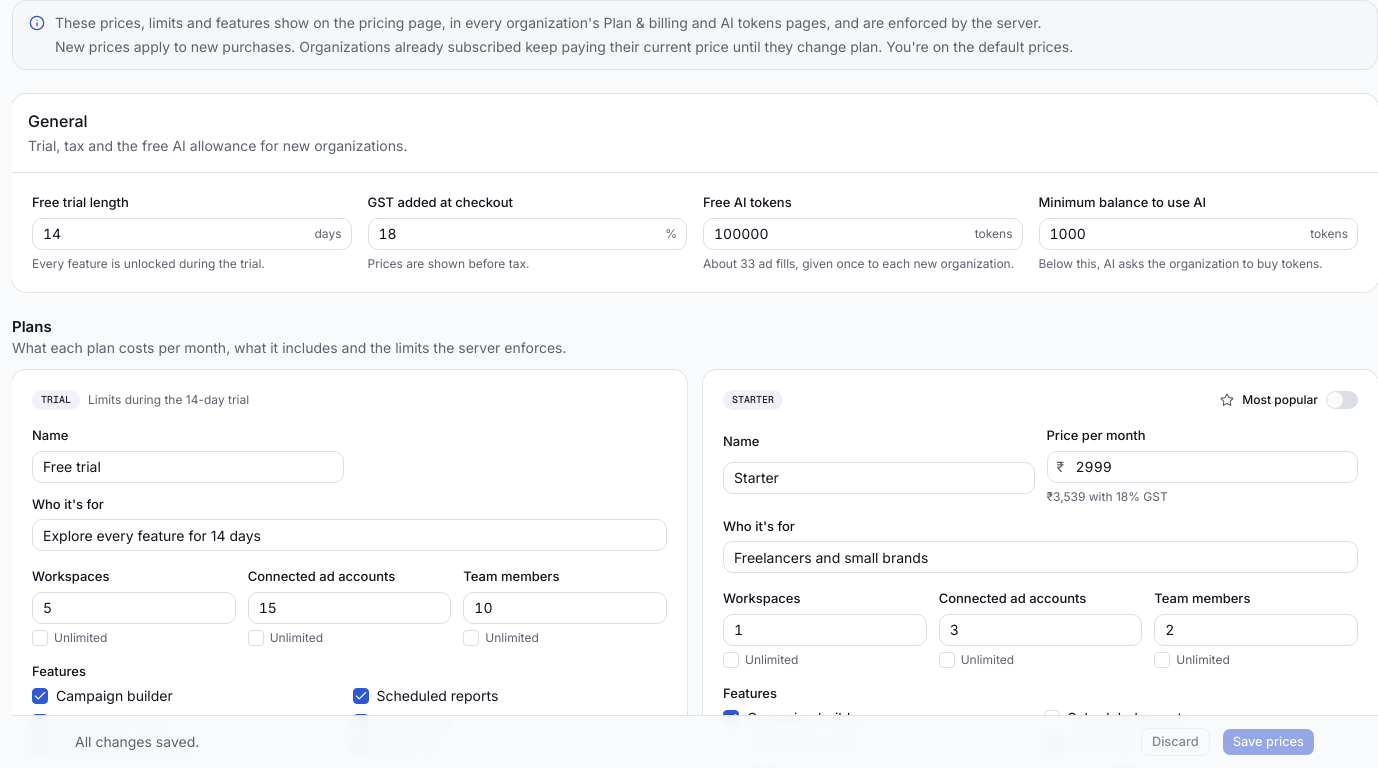
Scenario: PricingEditor › Unlimited toggles swap the number box for a label and back to 5
Expected: the field labelled "Free trial length" is shown, [32,218,352,250]
Expected: the field with id "STARTER-workspaces" is shown, [723,614,927,646]
Click the 4th checkbox named "Unlimited". click: (731, 660)
box: [723,652,739,668]
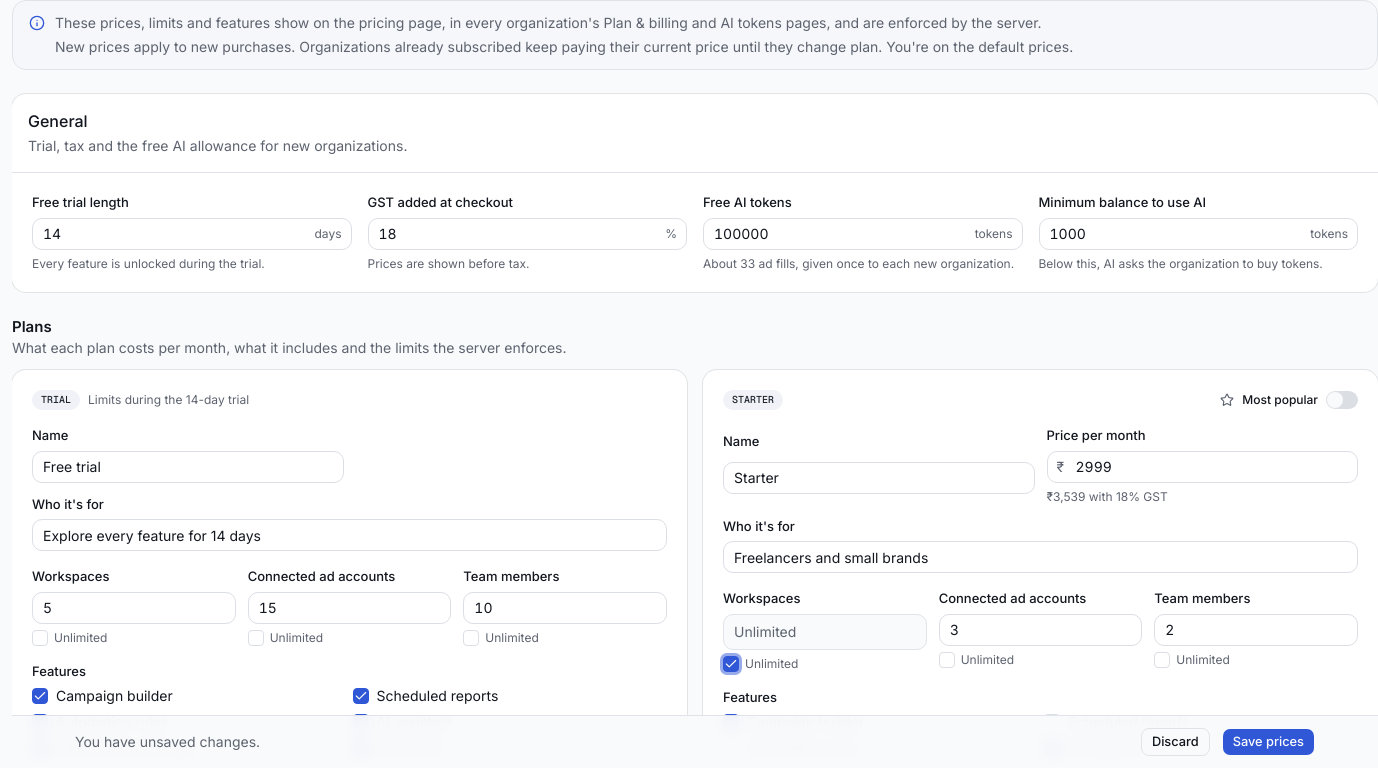
Result: the field with id "STARTER-workspaces" is gone
Click the 4th checkbox named "Unlimited". click: (731, 664)
box: [723,656,739,672]
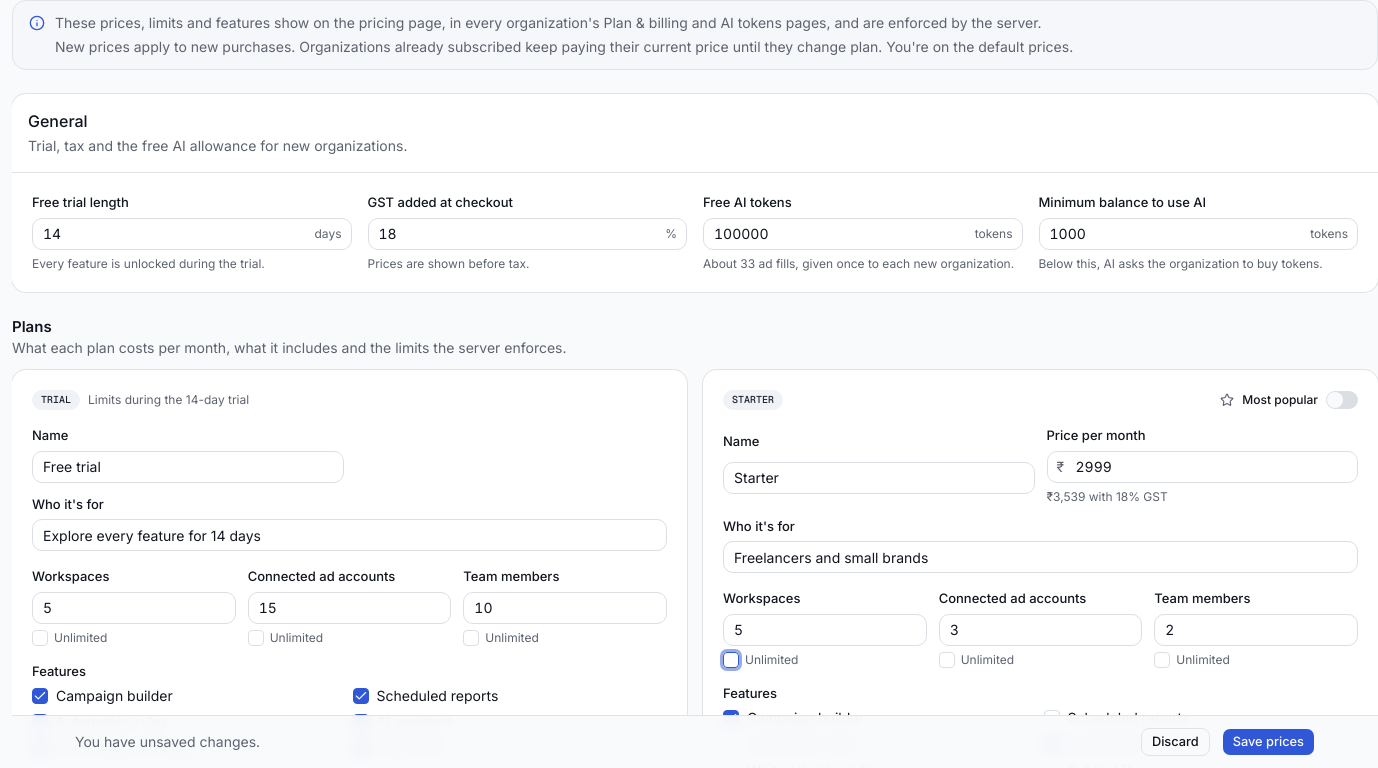
Result: the field with id "STARTER-workspaces" holds "5" at [723,614,927,646]
